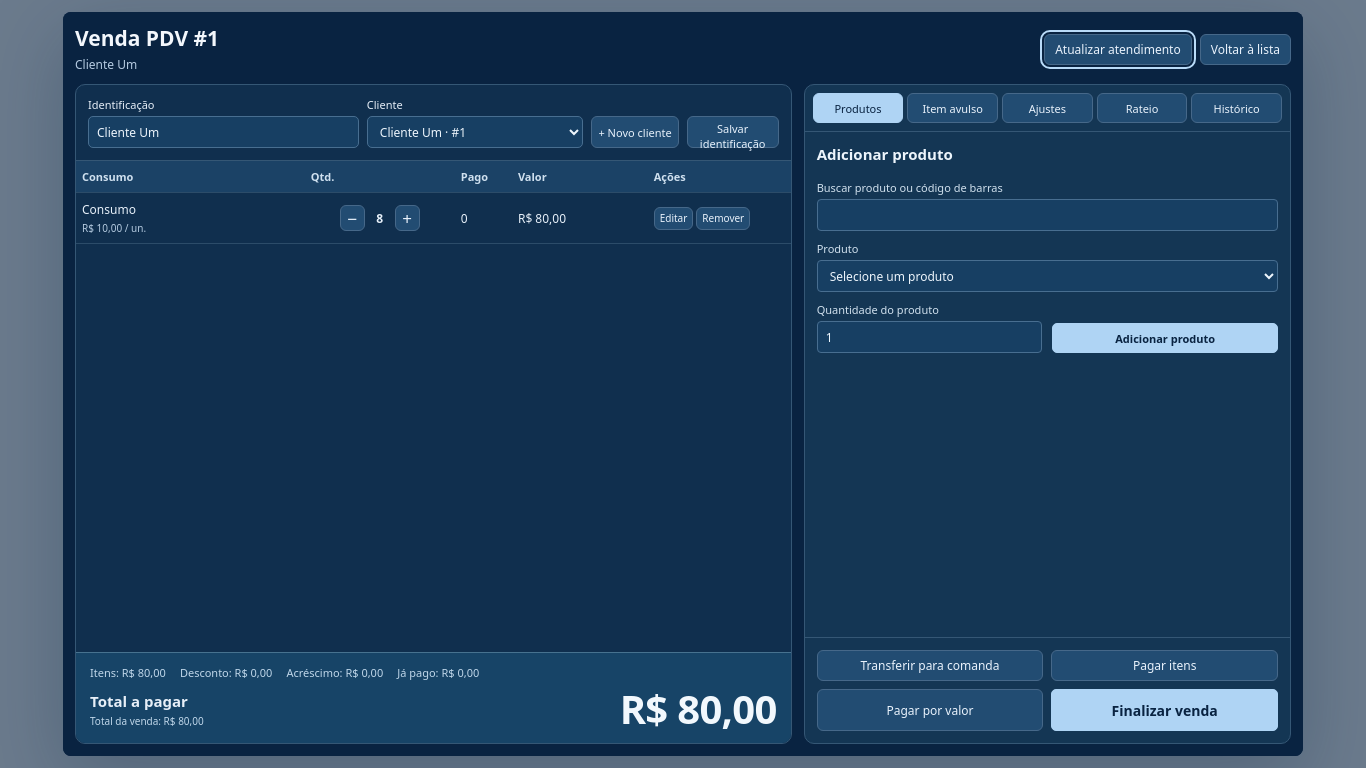
keeps a PDV in service after a partial payment and finalizes only through close
Click the button "Pagar por valor": (930, 710) top-left (817, 689), bottom-right (1043, 731)
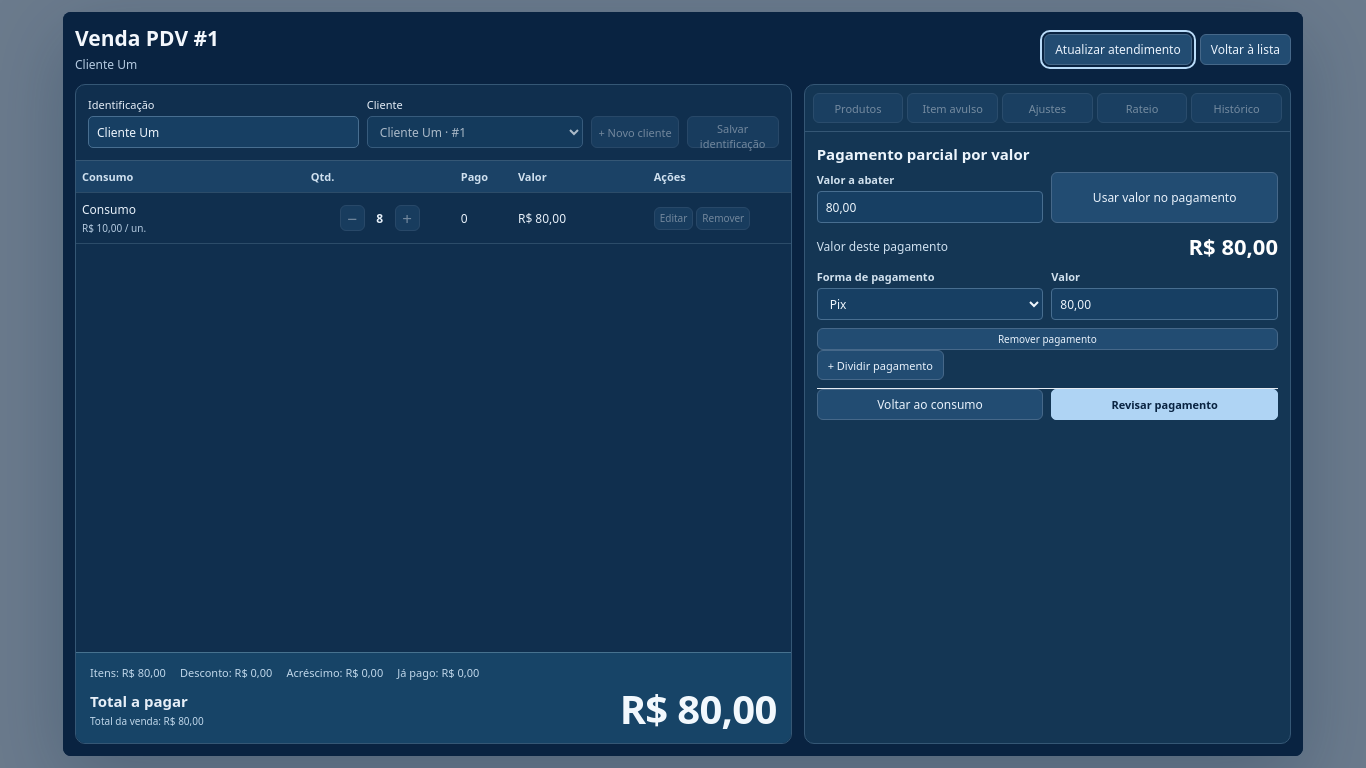
Replace the text in the field labelled "Valor a abater" with "30,00": (930, 207) top-left (817, 191), bottom-right (1043, 223)
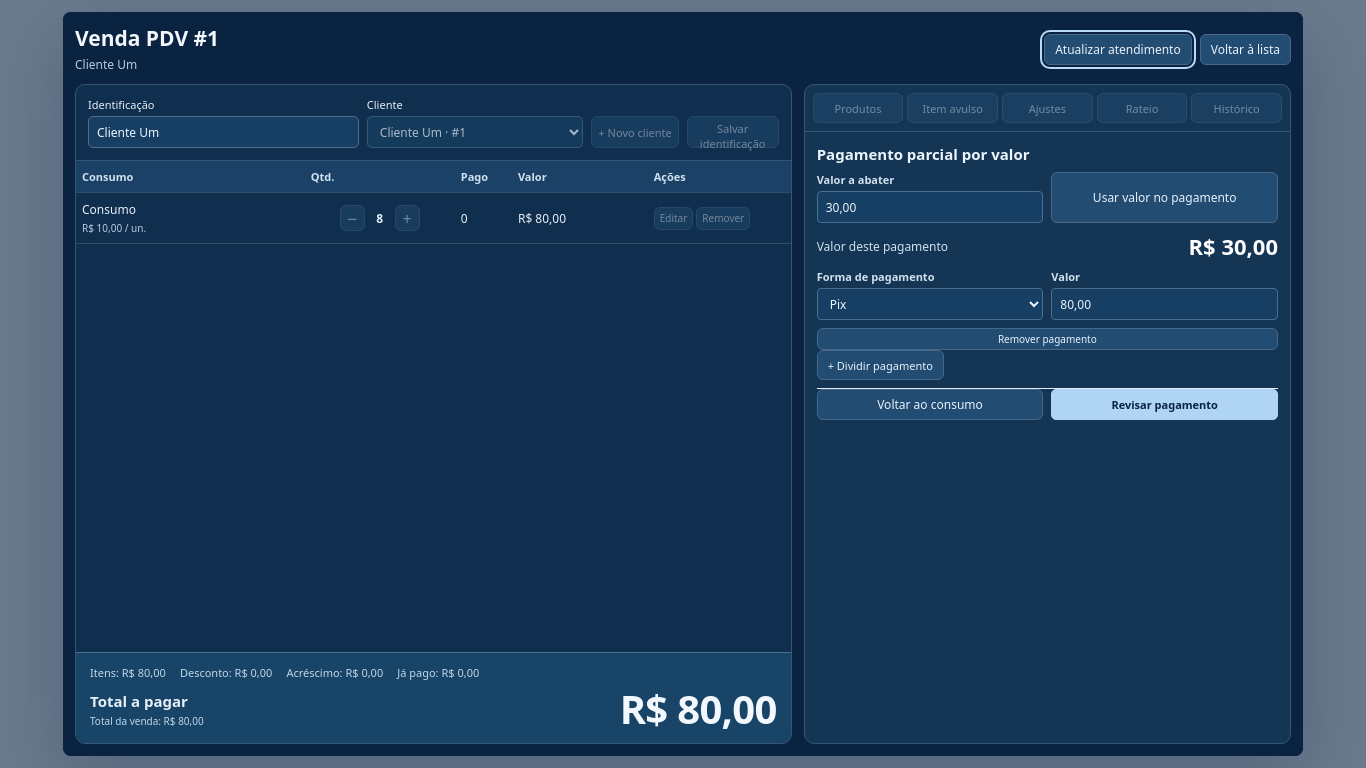
Click the button "Usar valor no pagamento": (1165, 198) top-left (1051, 172), bottom-right (1278, 223)
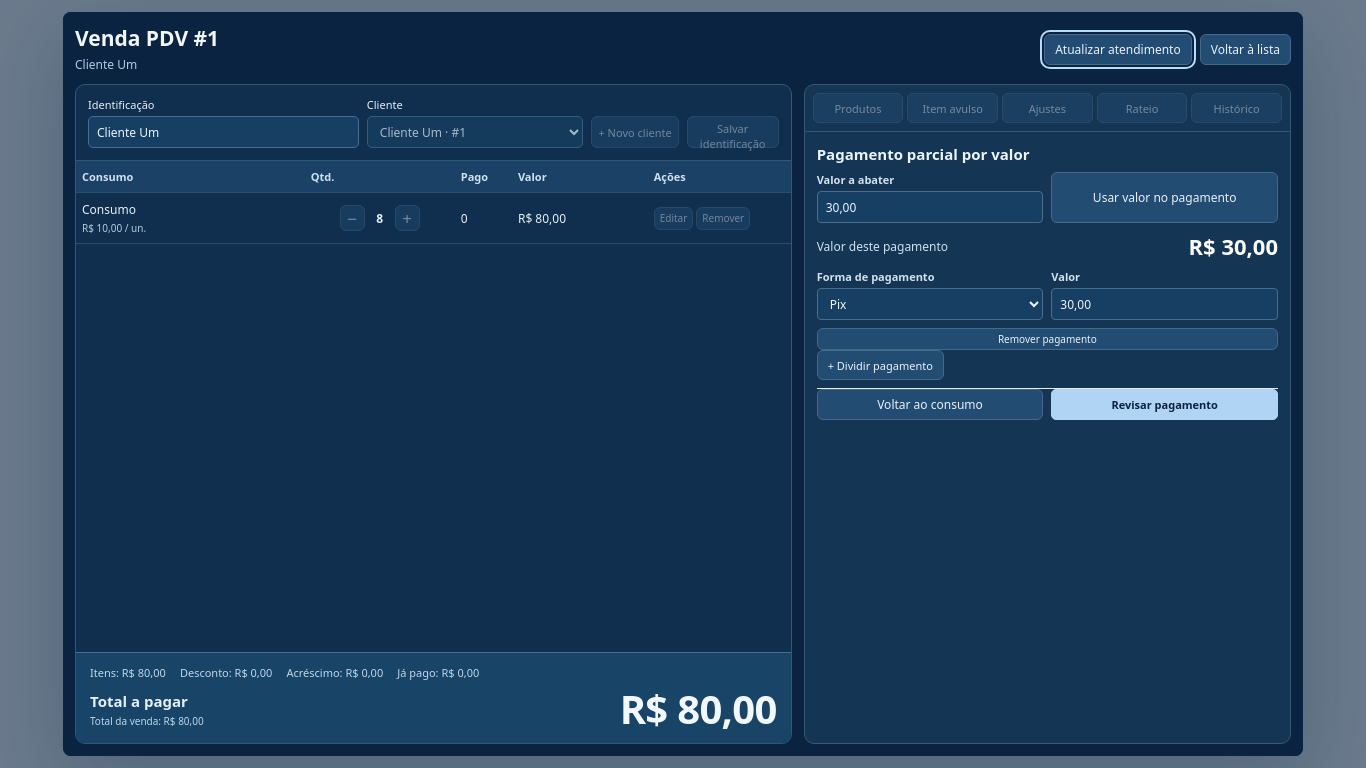
Click the button "Revisar pagamento": (1165, 404) top-left (1051, 389), bottom-right (1278, 420)
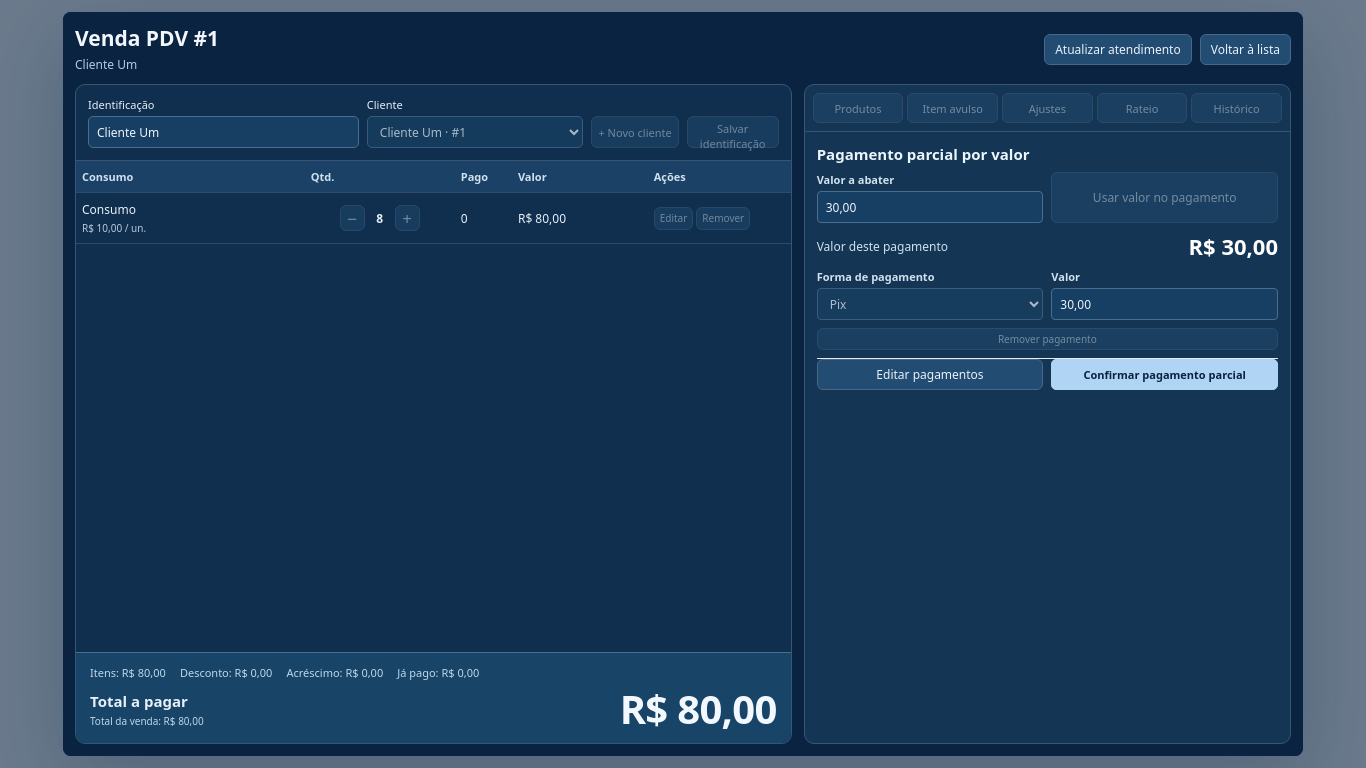
expect the button "Confirmar pagamento parcial" is shown: met
Click the button "Confirmar pagamento parcial": (1165, 374) top-left (1051, 359), bottom-right (1278, 390)
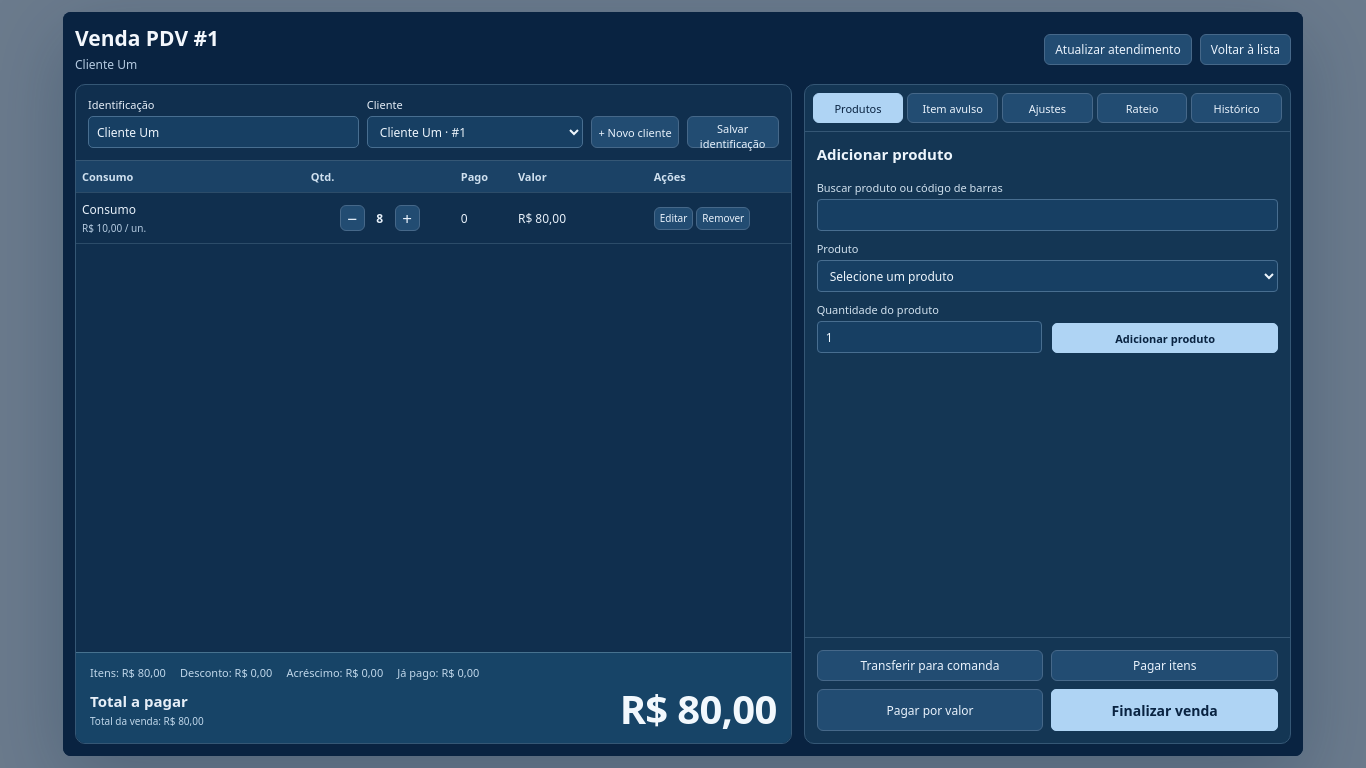
expect the button "Finalizar venda" is shown: met, box top-left (1051, 689), bottom-right (1278, 731)
